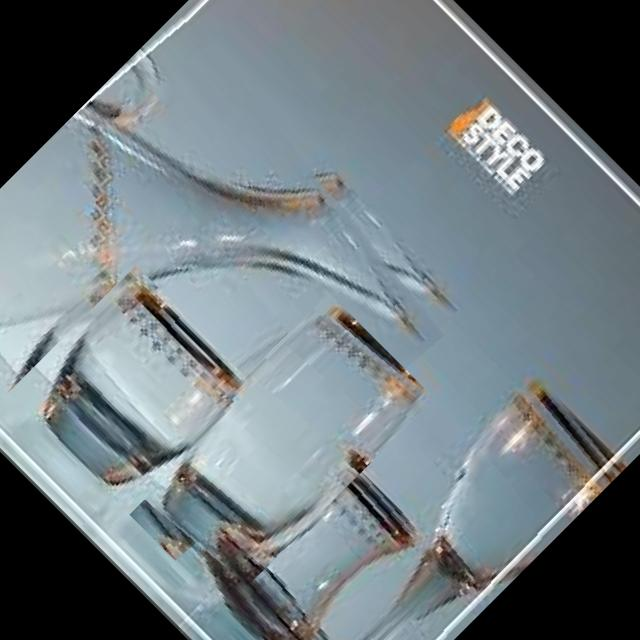Glass: (0, 7, 476, 583), (265, 369, 628, 640), (130, 292, 434, 596), (6, 266, 256, 516), (188, 427, 458, 640)
